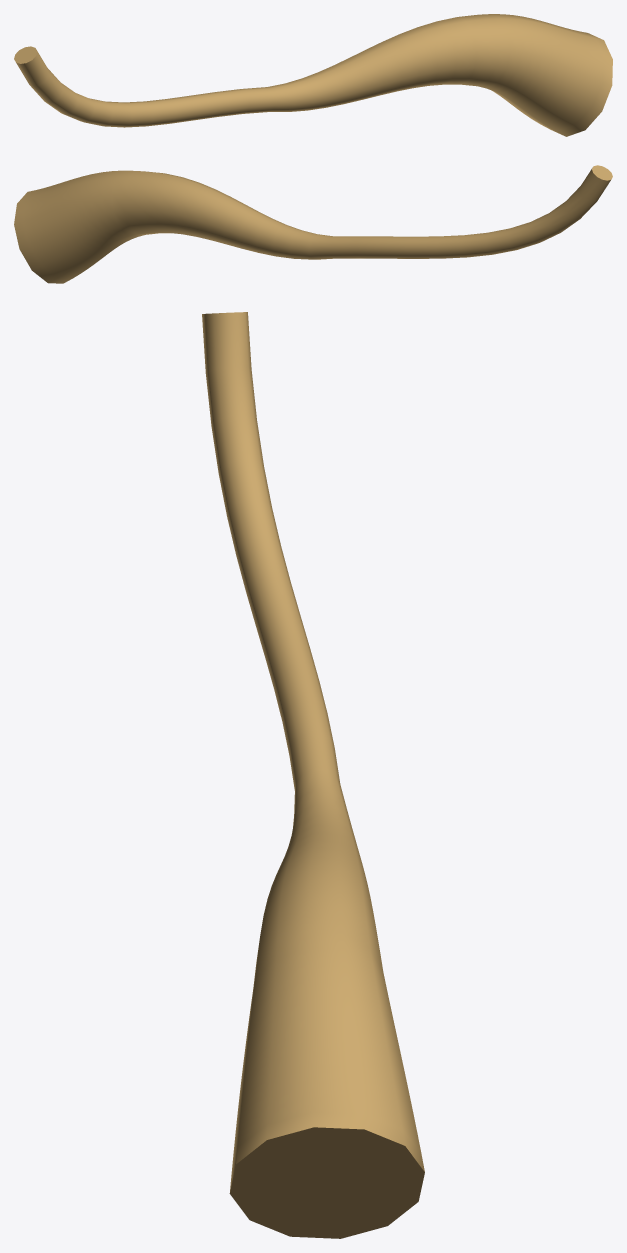
3 renders of one model, top to bottom at view 1: azimuth 30°, elevation 25°; view 2: azimuth 150°, elevation 25°; view 3: azimuth 270°, elevation 25°, orthographic. The views are drawn at different scales.
Visible parts, largest first — view 1: 左侧蜗神经; view 2: 左侧蜗神经; view 3: 左侧蜗神经.
Boxes of the visible parts, x1,y1,x2,y2 form: 左侧蜗神经: [14, 14, 612, 136]; 左侧蜗神经: [14, 165, 612, 283]; 左侧蜗神经: [202, 312, 424, 1238].
Size of the model in its own units: 0.0291 by 0.0108 by 0.005.
